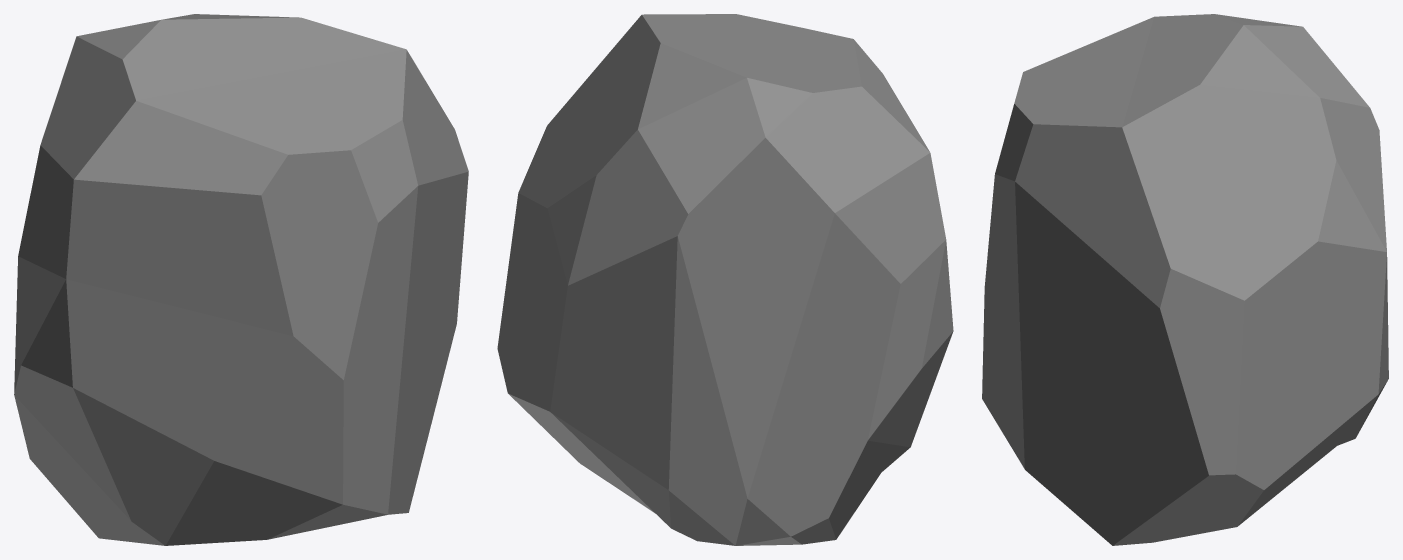
The model's file is HardRock_04.fbx.
The picture shows the model from 3 angles, left to right: view 1: azimuth 30°, elevation 25°; view 2: azimuth 150°, elevation 25°; view 3: azimuth 270°, elevation 25°; orthographic projection. The views are drawn at different scales.
Visible parts, largest first — view 1: HardRock_04; view 2: HardRock_04; view 3: HardRock_04.
Boxes of the visible parts, left/top/right/bottom form: HardRock_04: left=14, top=14, right=468, bottom=545; HardRock_04: left=497, top=14, right=953, bottom=545; HardRock_04: left=982, top=14, right=1388, bottom=545.
Size of the model in its own units: 72.78 by 77.53 by 63.67.
